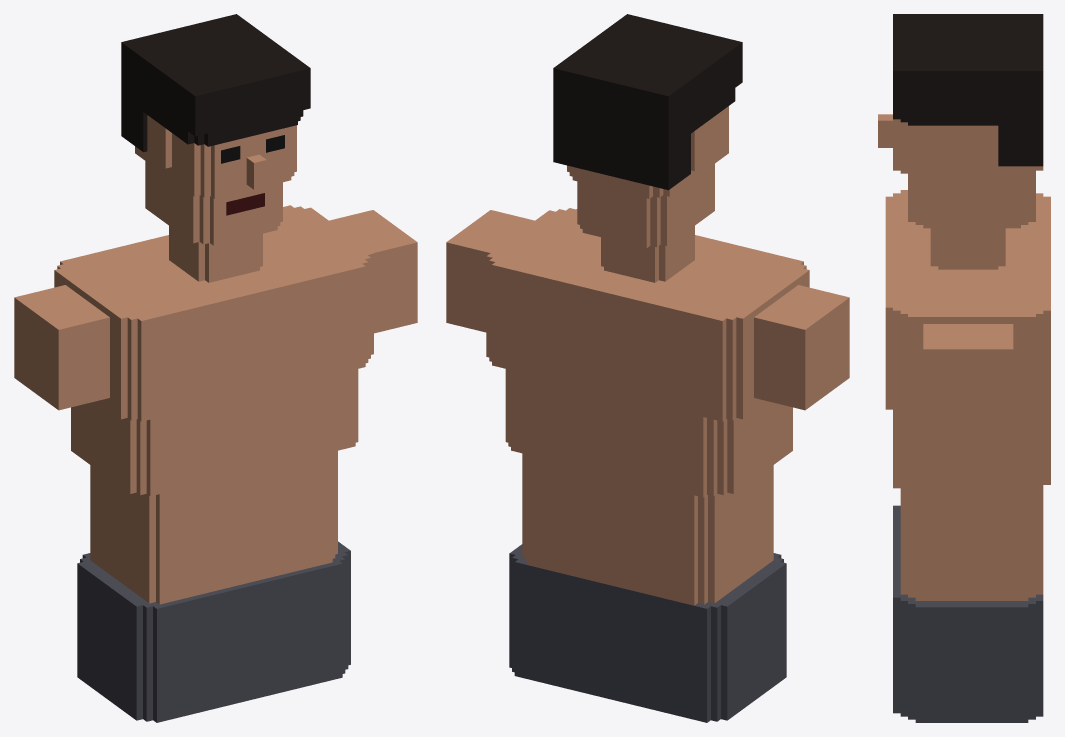
File: player_bust.glb
The picture shows the model from 3 angles, left to right: view 1: azimuth 30°, elevation 25°; view 2: azimuth 150°, elevation 25°; view 3: azimuth 270°, elevation 25°; orthographic projection.
Visible parts, largest first — view 1: torso:torso, head:head, pelvis:pelvis, neck:neck; view 2: torso:torso, head:head, pelvis:pelvis, neck:neck; view 3: torso:torso, head:head, pelvis:pelvis, neck:neck.
Part boxes in pixels (x1,y1,x2,y2): torso:torso: (14,205,417,604); head:head: (121,14,310,245); pelvis:pelvis: (77,541,350,722); neck:neck: (169,226,262,282); torso:torso: (446,208,849,605); head:head: (553,14,742,248); pelvis:pelvis: (509,544,786,722); neck:neck: (601,226,694,282); torso:torso: (885,190,1050,600); head:head: (878,14,1043,228); pelvis:pelvis: (893,505,1043,722); neck:neck: (930,228,1005,269).
Size of the model in its own units: 0.56 by 0.92 by 0.23.
